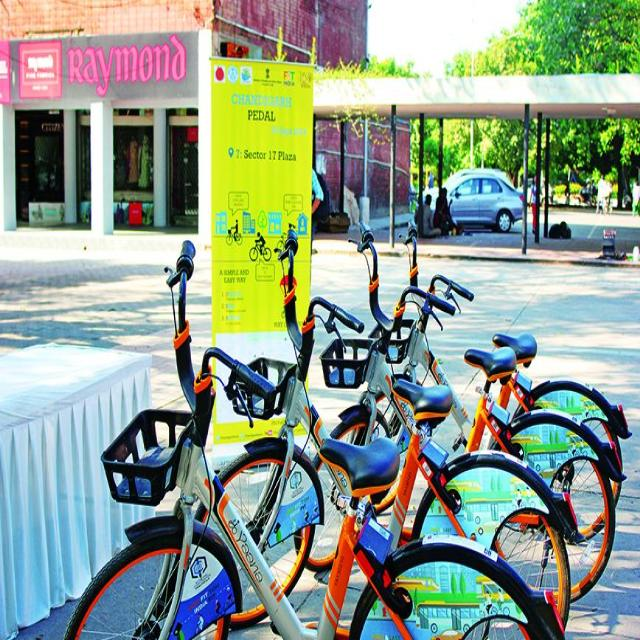bicycle: (66, 238, 567, 640), (219, 217, 369, 597), (385, 378, 580, 632), (464, 346, 624, 601), (320, 216, 464, 439)
car: (444, 168, 522, 235)
